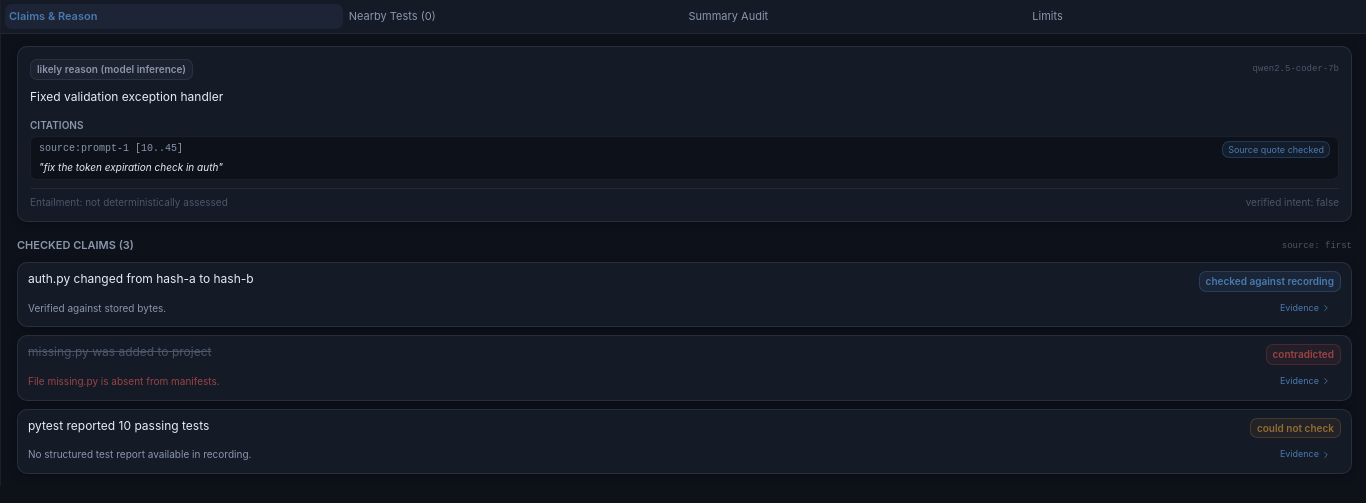
ReplayEvidenceInspector (Phase C2) › renders summary audit with honest status labels
# Switch to summary audit tab
Click the button with test id "replay-tab-summary" at (728, 16), box [684,4,1022,29]
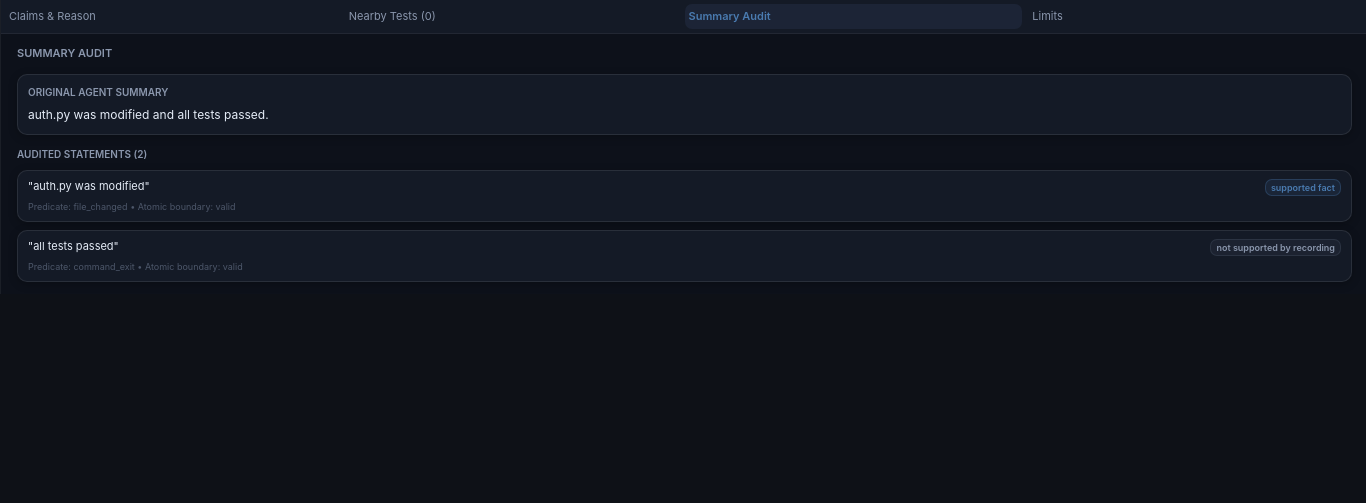
Check: the text "auth.py was modified and all tests passed." is shown, box [28,107,269,122]
Check: the element with test id "replay-summary-statement-0" shows "supported", box [1271,182,1335,193]
Check: the element with test id "replay-summary-statement-1" shows "not supported by recording", box [1216,242,1335,253]
